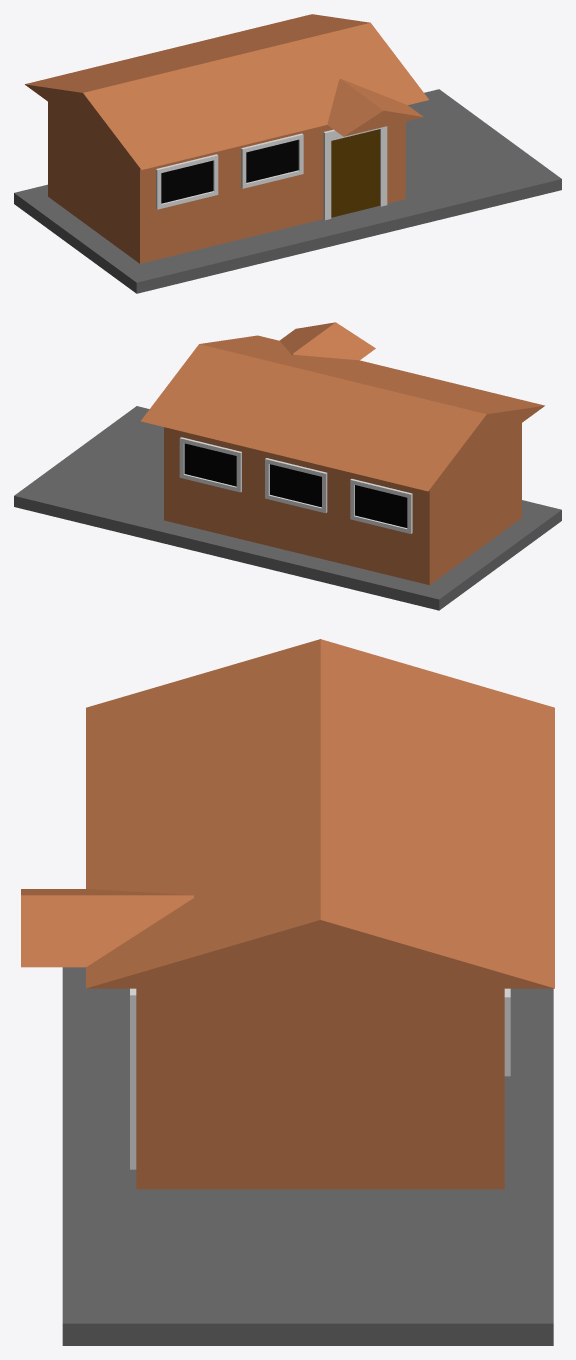
Rendered from Small building.fbx.
The picture shows the model from 3 angles, top to bottom: view 1: azimuth 30°, elevation 25°; view 2: azimuth 150°, elevation 25°; view 3: azimuth 270°, elevation 25°; orthographic projection. The views are drawn at different scales.
Parts seen in each view (by area): view 1: Building; view 2: Building; view 3: Building.
Boxes of the visible parts, x1,y1,x2,y2 form: Building: (14, 14, 561, 293); Building: (14, 322, 561, 610); Building: (21, 639, 554, 1345).
Size of the model in its own units: 800 by 272 by 435.
